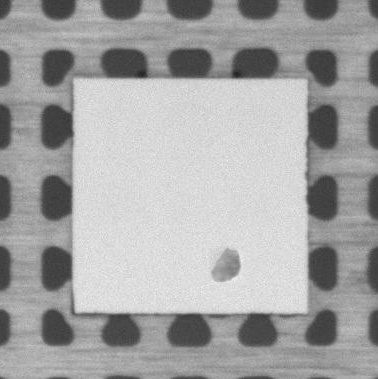DIE_INK: (205, 243, 245, 287)
